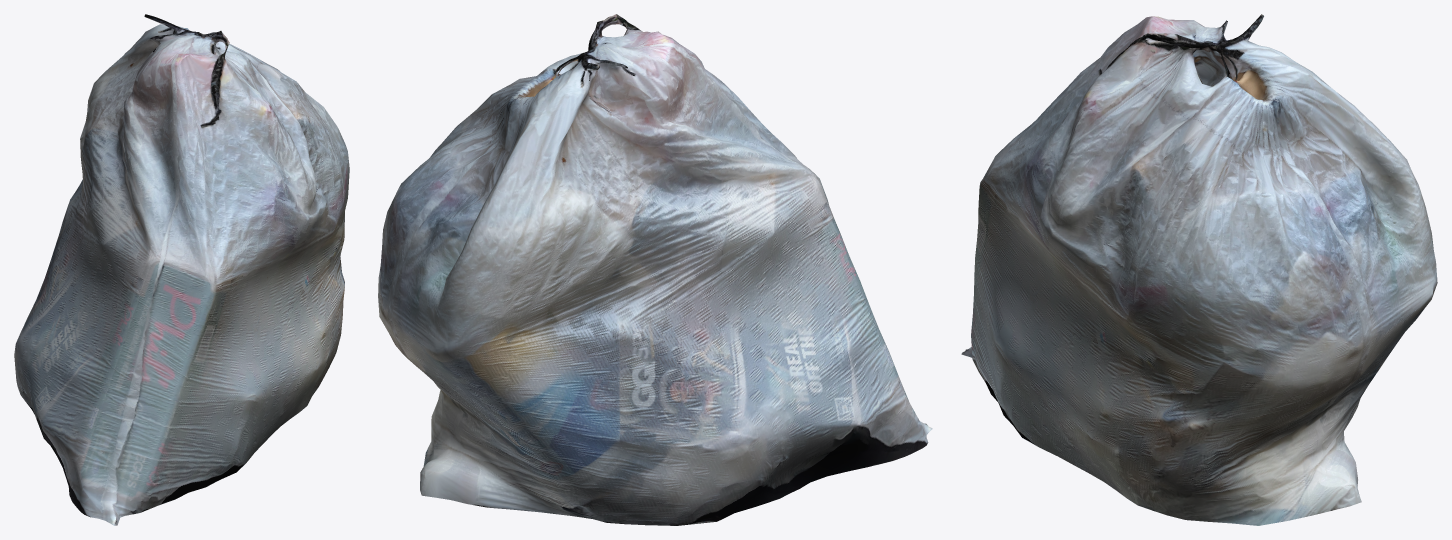
File: garbage_bag_white_lowpoly.glb
3 views of the same model, side by side, from view 1: azimuth 30°, elevation 25°; view 2: azimuth 150°, elevation 25°; view 3: azimuth 270°, elevation 25° (orthographic). The views are drawn at different scales.
Visible parts, largest first — view 1: GarbageWhiteNew_Baked; view 2: GarbageWhiteNew_Baked; view 3: GarbageWhiteNew_Baked.
Boxes of the visible parts, x1=… form: GarbageWhiteNew_Baked: x1=14, y1=14, x2=349, y2=525; GarbageWhiteNew_Baked: x1=378, y1=14, x2=932, y2=525; GarbageWhiteNew_Baked: x1=961, y1=14, x2=1437, y2=525.
Bounding box in the file's own units: 0.6418 × 0.652 × 0.6501.
Materials: 1 (1 with a texture image).
